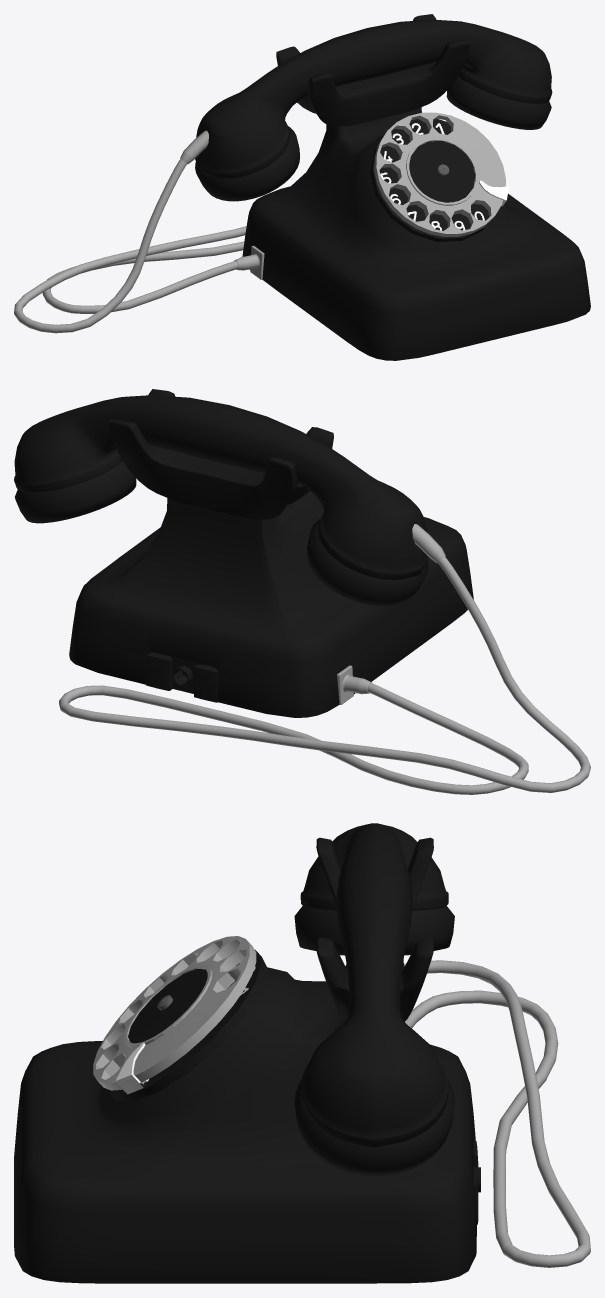
File: Phone01.fbx
3 views of the same model, one above another, from view 1: azimuth 30°, elevation 25°; view 2: azimuth 150°, elevation 25°; view 3: azimuth 270°, elevation 25° (orthographic). The views are drawn at different scales.
Parts seen in each view (by area): view 1: phone_stop1, phone_mouthpiece, phone_dial_plate, phone_cord, phone_dial_base, cord_end1, cord_end; view 2: phone_stop1, phone_mouthpiece, phone_cord, cord_end1, cord_end; view 3: phone_stop1, phone_mouthpiece, phone_cord, phone_dial_plate, phone_dial_base.
Boxes of the visible parts, x1=… form: phone_stop1: x1=242, y1=14, x2=590, y2=360; phone_mouthpiece: x1=195, y1=19, x2=552, y2=201; phone_dial_plate: x1=374, y1=112, x2=505, y2=236; phone_cord: x1=14, y1=159, x2=246, y2=333; phone_dial_base: x1=370, y1=118, x2=488, y2=241; cord_end1: x1=234, y1=245, x2=264, y2=279; cord_end: x1=180, y1=130, x2=208, y2=164; phone_stop1: x1=69, y1=389, x2=473, y2=717; phone_mouthpiece: x1=14, y1=395, x2=428, y2=605; phone_cord: x1=59, y1=557, x2=590, y2=794; cord_end1: x1=337, y1=665, x2=372, y2=704; cord_end: x1=412, y1=524, x2=445, y2=562; phone_stop1: x1=14, y1=837, x2=480, y2=1283; phone_mouthpiece: x1=294, y1=823, x2=454, y2=1176; phone_cord: x1=404, y1=960, x2=590, y2=1267; phone_dial_plate: x1=93, y1=936, x2=256, y2=1090; phone_dial_base: x1=108, y1=950, x2=267, y2=1101.
Size of the model in its own units: 34.81 by 15.13 by 23.
2 materials, 1 textured.
